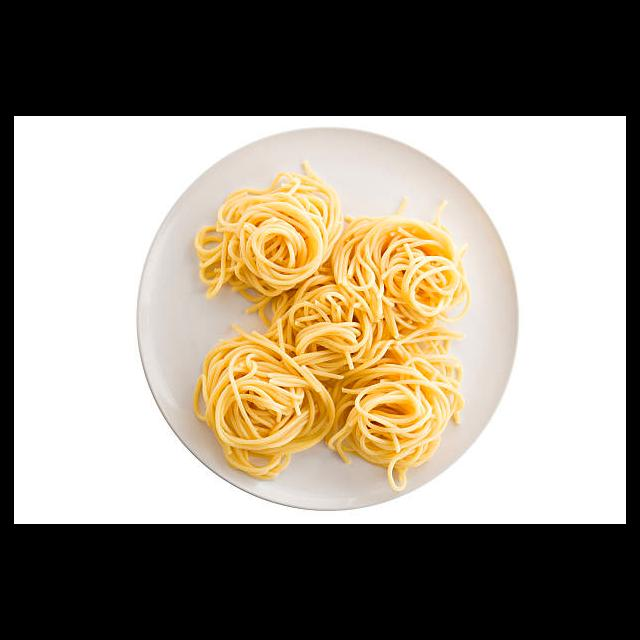noodles: (190, 161, 474, 491)
